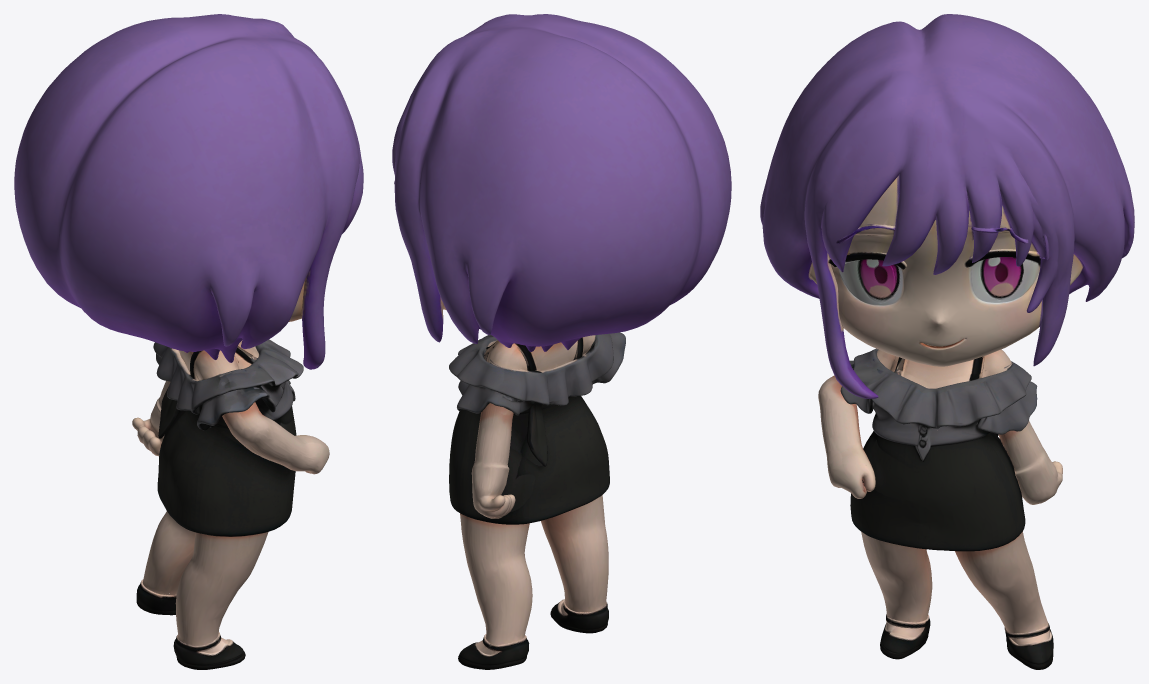
The model's file is Nyamu.glb.
3 views of the same model, side by side, from view 1: azimuth 30°, elevation 25°; view 2: azimuth 150°, elevation 25°; view 3: azimuth 270°, elevation 25° (orthographic). The views are drawn at different scales.
Parts seen in each view (by area): view 1: Nyamu2; view 2: Nyamu2; view 3: Nyamu2.
Part boxes in pixels (left/top/right/bottom): Nyamu2: left=14, top=14, right=363, bottom=669; Nyamu2: left=392, top=14, right=731, bottom=669; Nyamu2: left=760, top=14, right=1134, bottom=669.
Bounding box in the file's own units: 0.4901 × 0.9795 × 0.5416.
Materials: 1 (1 with a texture image).
